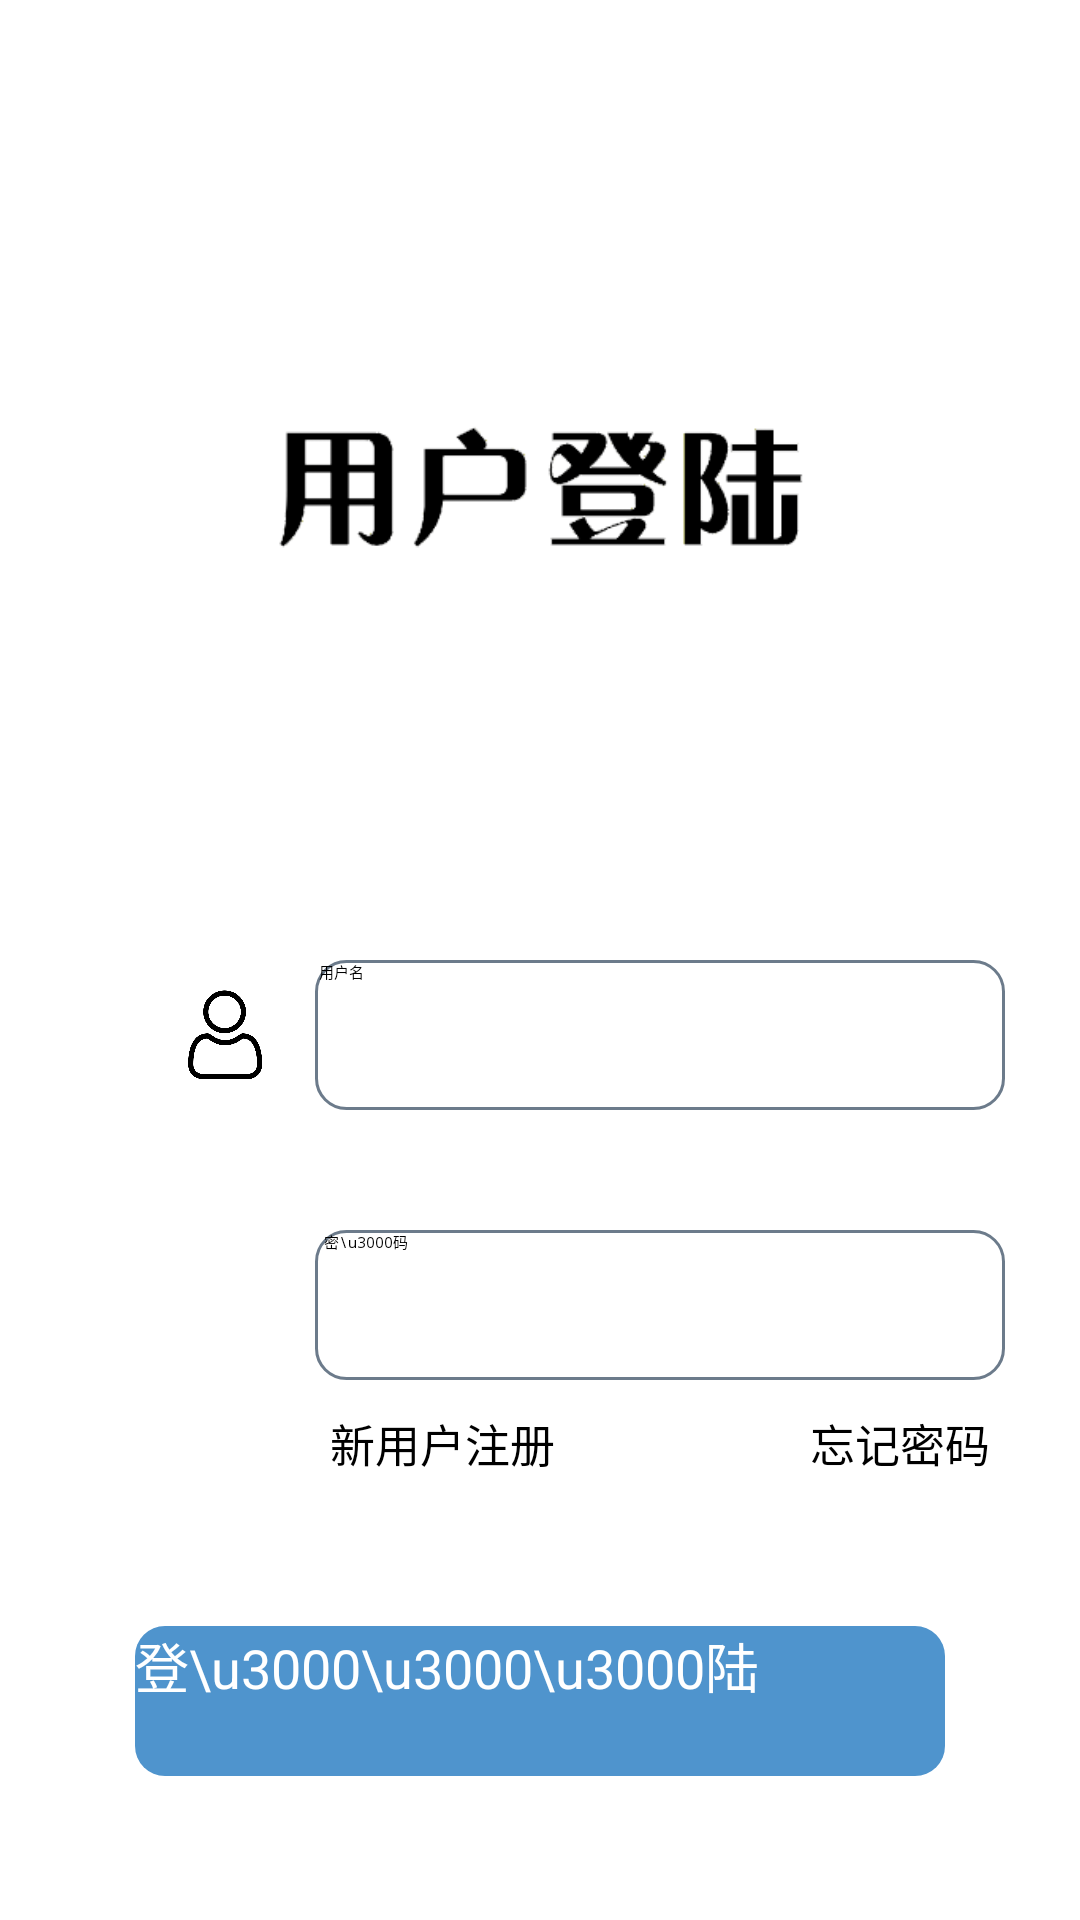

Locate icon controls on the screen. Image size 1080 x 1920, boxes as (x1, y1, x2, y2).
login user: (188, 990, 262, 1079)
